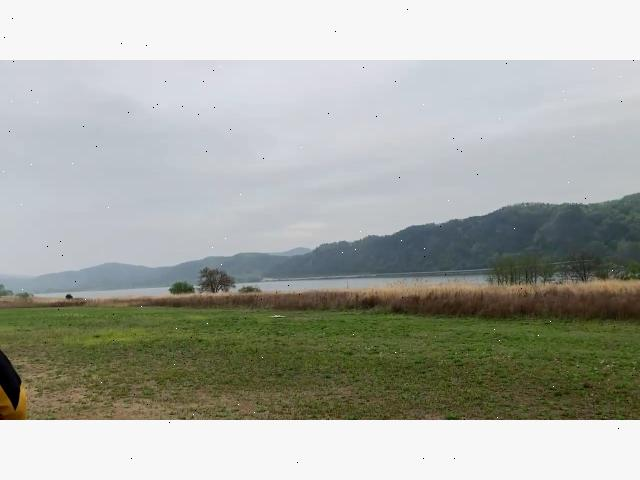Anti-Drone: (260, 310, 300, 328)
